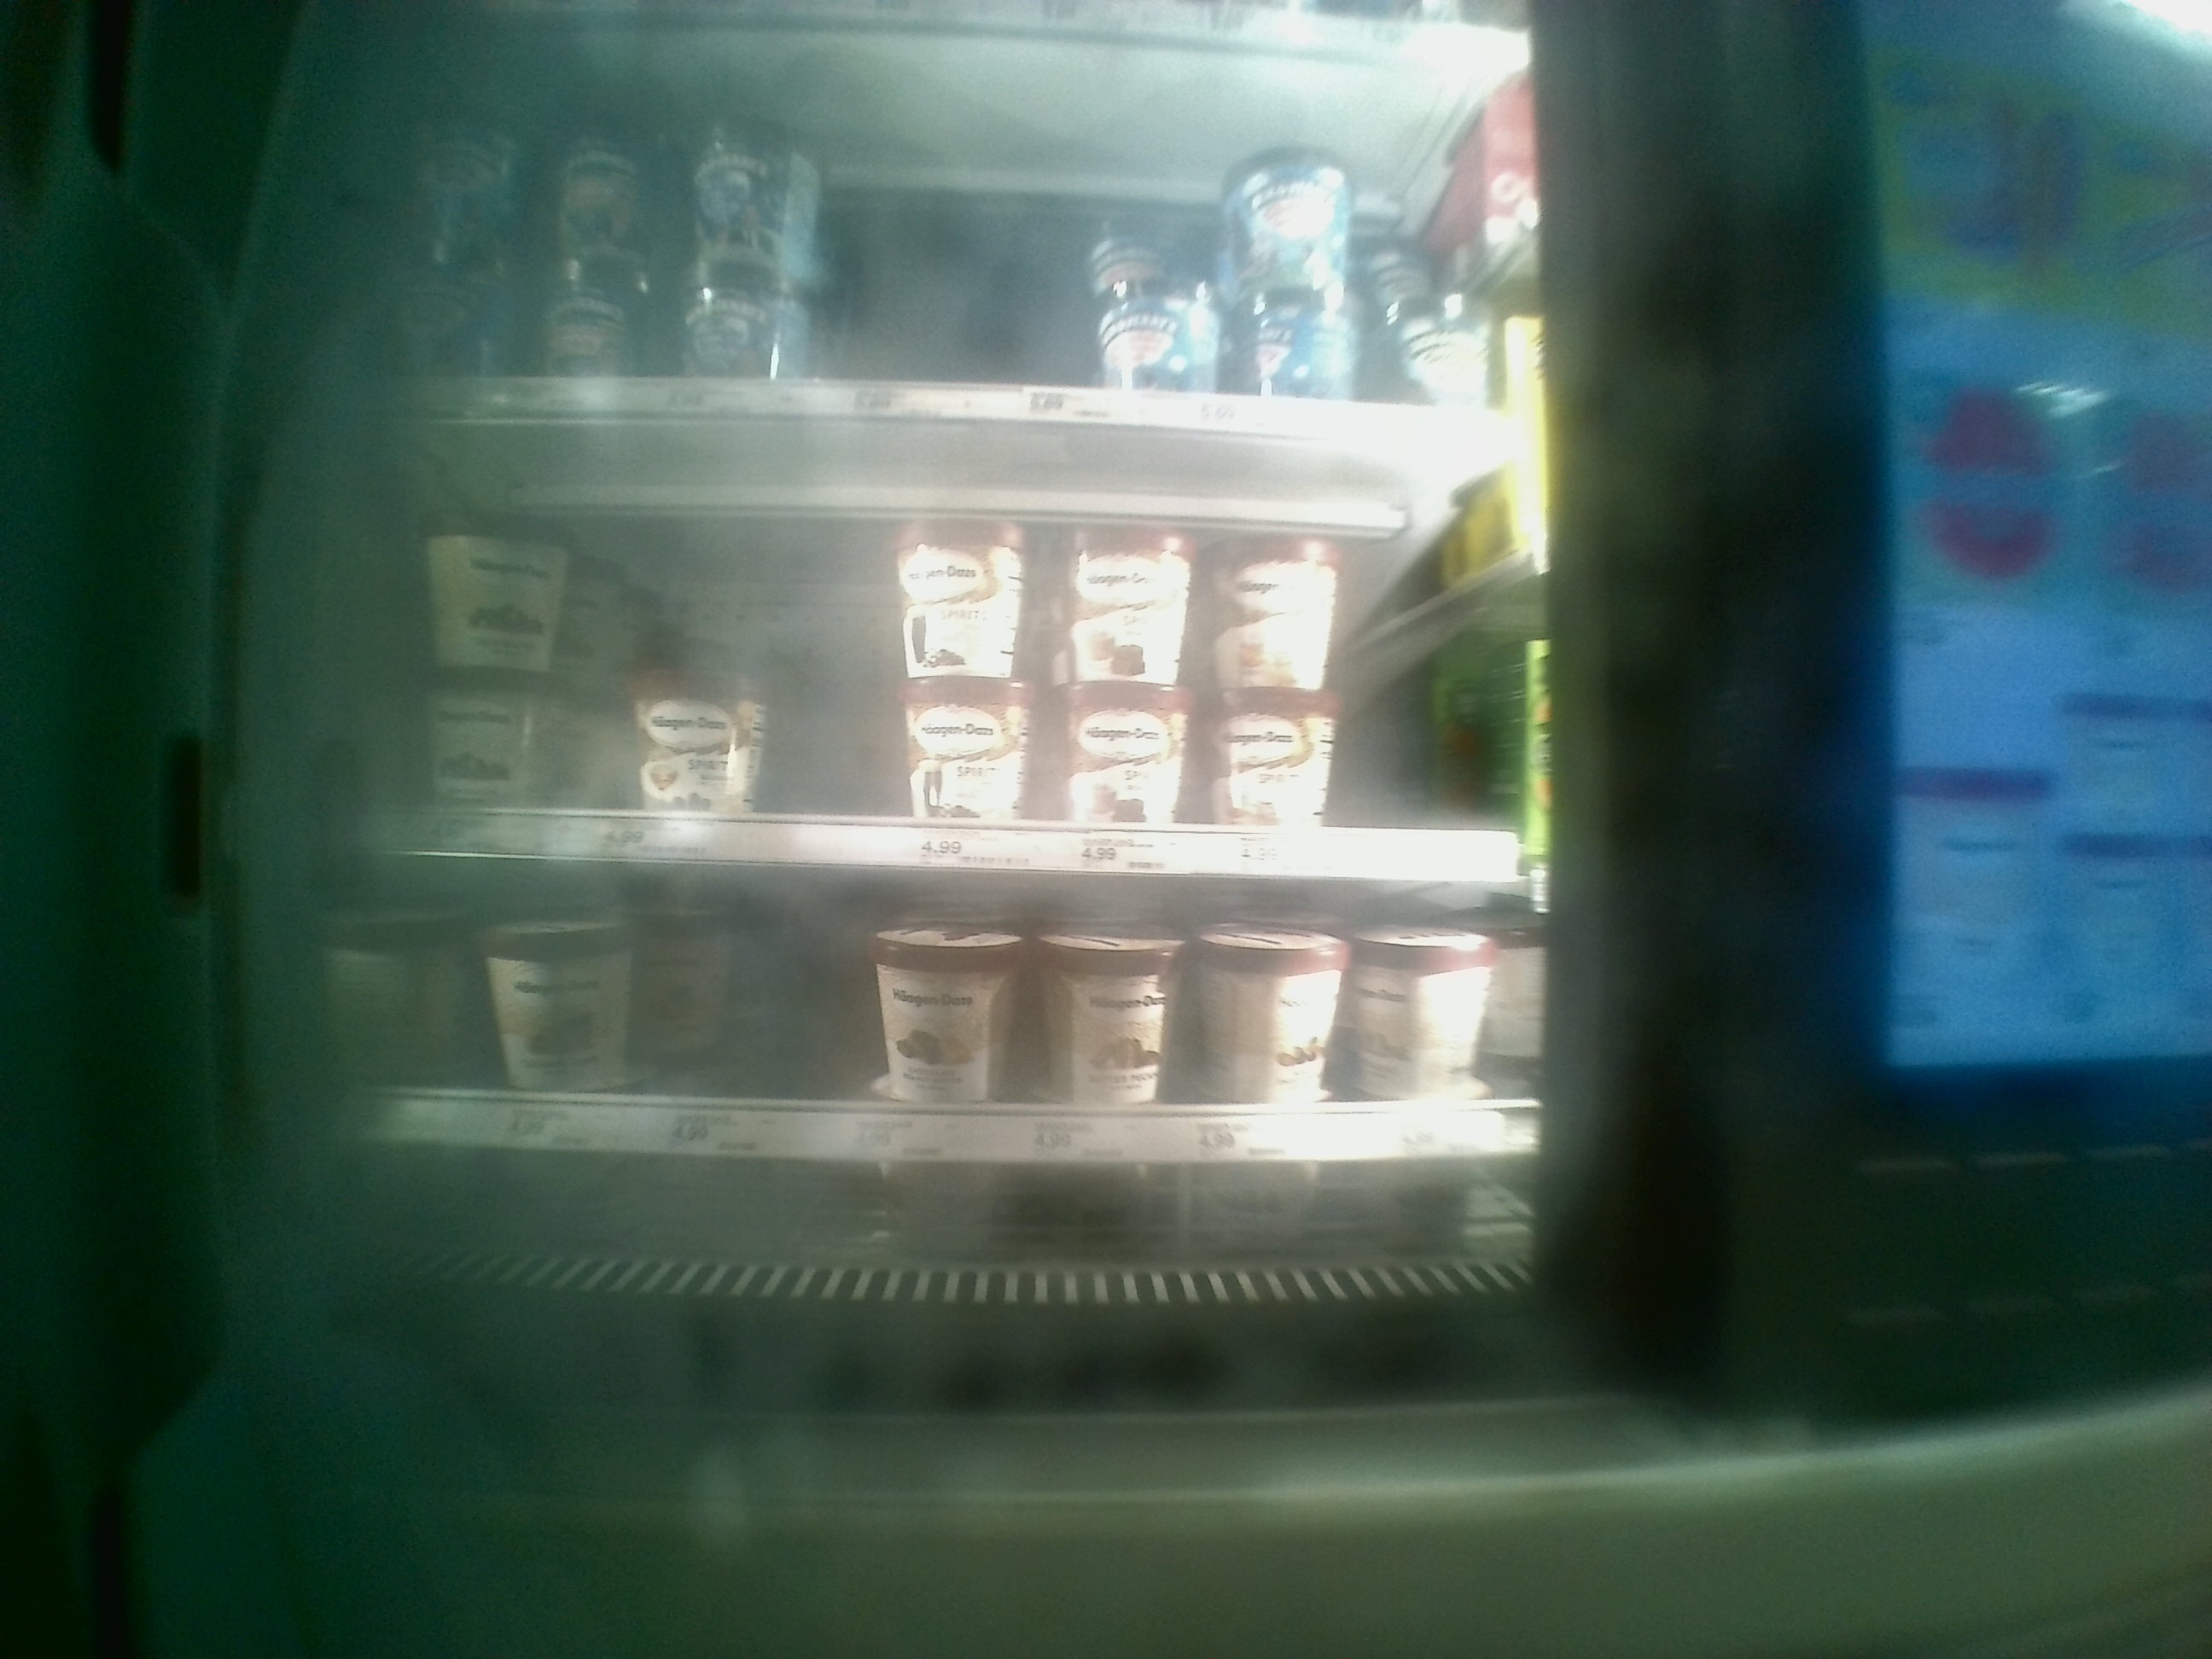ice-cream-shelf: (409, 401, 1524, 873), (388, 852, 1561, 1194)
